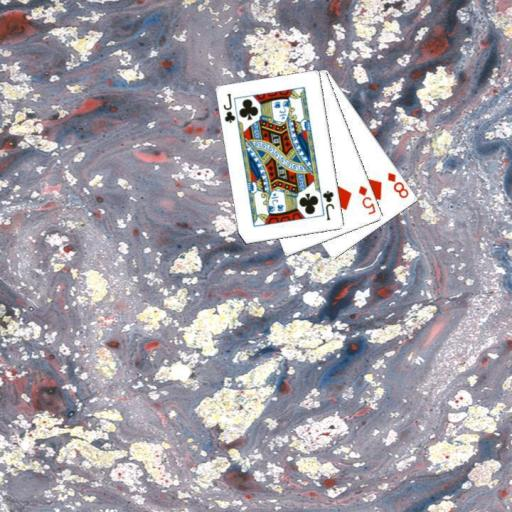card-corner: (385, 169, 410, 200), (356, 183, 378, 216), (220, 90, 237, 124), (320, 188, 336, 222)
